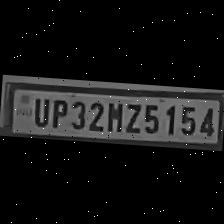1: (160, 102, 178, 134)
2: (84, 96, 104, 131)
3: (66, 96, 86, 129)
4: (196, 102, 220, 134)
5: (138, 100, 162, 134), (174, 102, 198, 134)
M: (103, 97, 123, 132)
P: (47, 95, 69, 129)
U: (28, 93, 50, 126)
Z: (121, 99, 142, 134)
